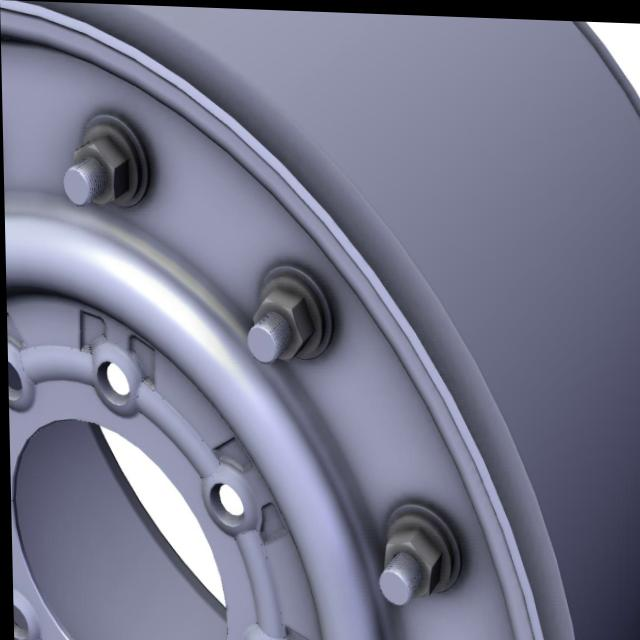Regular bolt: (376, 523, 443, 603), (247, 287, 315, 364), (66, 134, 133, 210)
